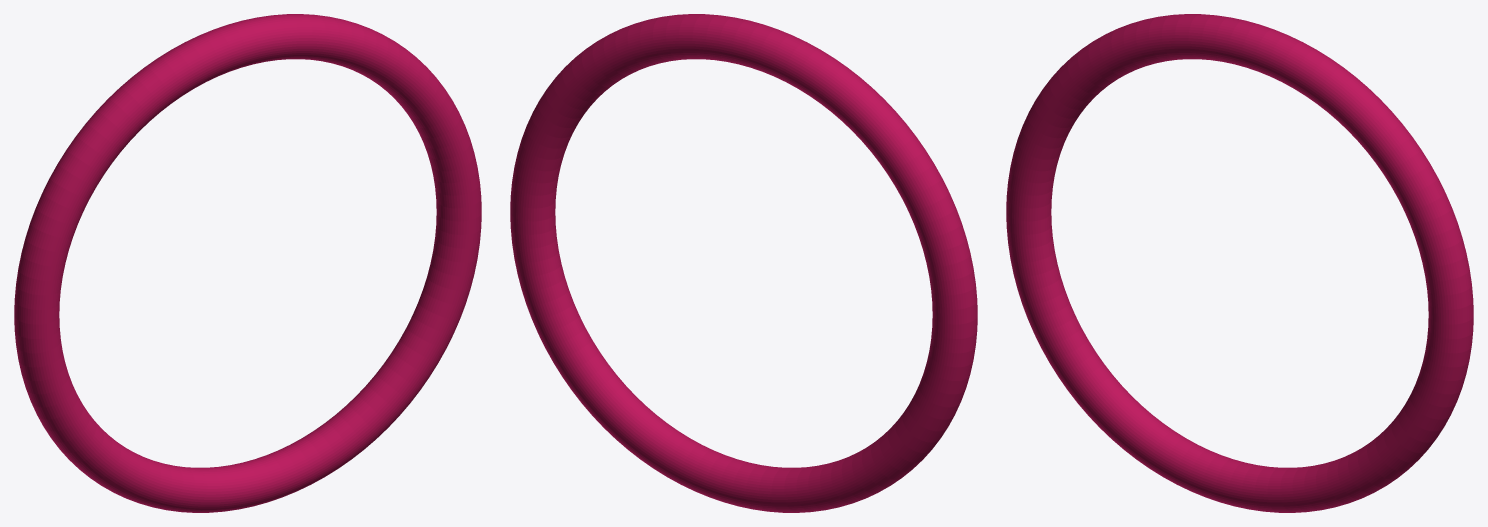
The picture shows the model from 3 angles, left to right: view 1: azimuth 30°, elevation 25°; view 2: azimuth 150°, elevation 25°; view 3: azimuth 330°, elevation 25°; orthographic projection.
Parts seen in each view (by area): view 1: world; view 2: world; view 3: world.
Part boxes in pixels (bbox=[...]): world: bbox=[14, 14, 481, 512]; world: bbox=[510, 14, 977, 512]; world: bbox=[1006, 14, 1473, 512].
Bounding box in the file's own units: 29.87 × 29.87 × 2.53.
